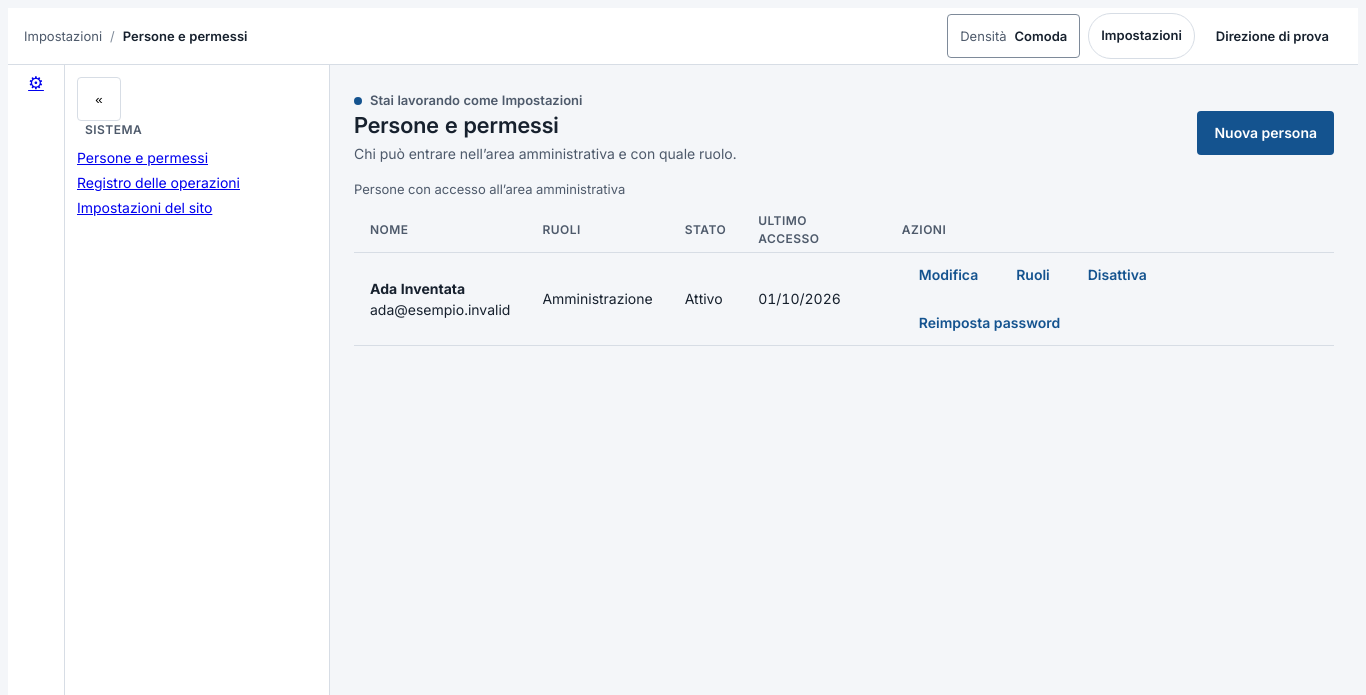
Test case: persone e permessi › crea un account con i ruoli scelti e mostra la password una sola volta
The width and height of the screenshot is (1366, 695).
Expected: the text "Ada Inventata" is shown, [370,280,465,297]
Click the button "Nuova persona" at point(1266, 133), box [1198,111,1334,155]
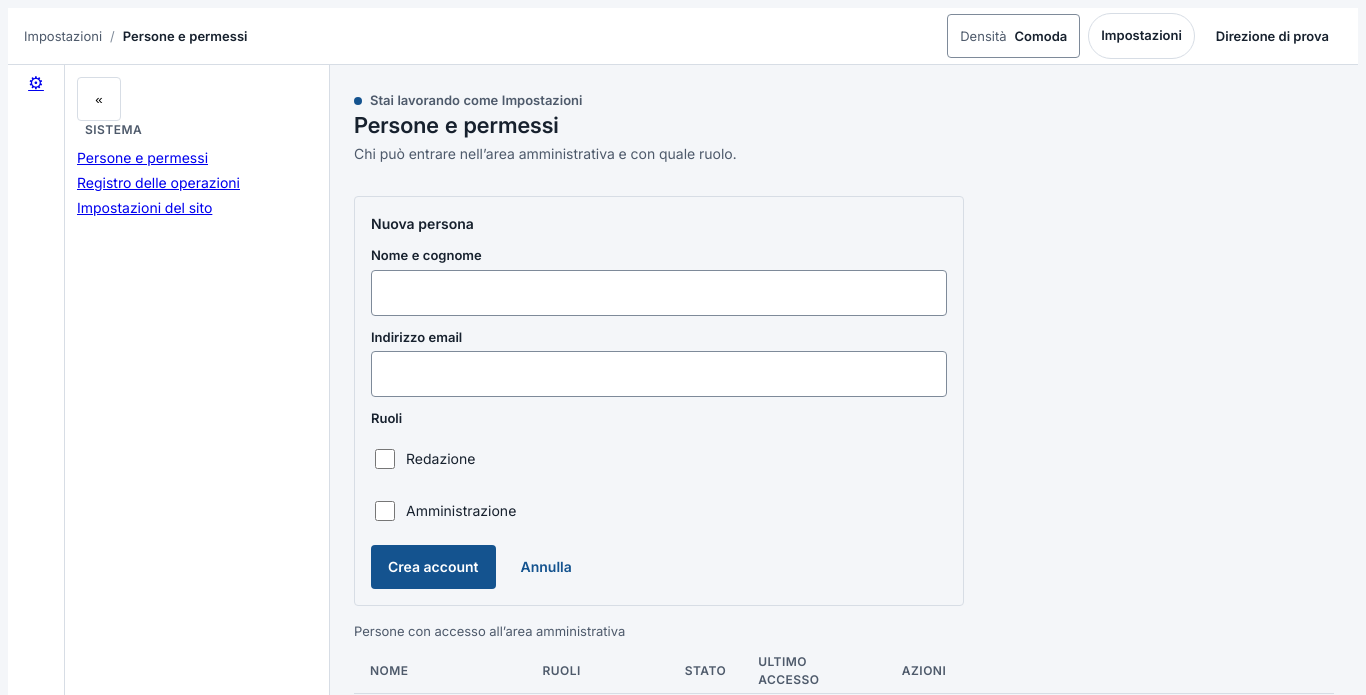
Type "Nuova Persona" into the field labelled "Nome e cognome" at point(659, 293), box [371,270,947,316]
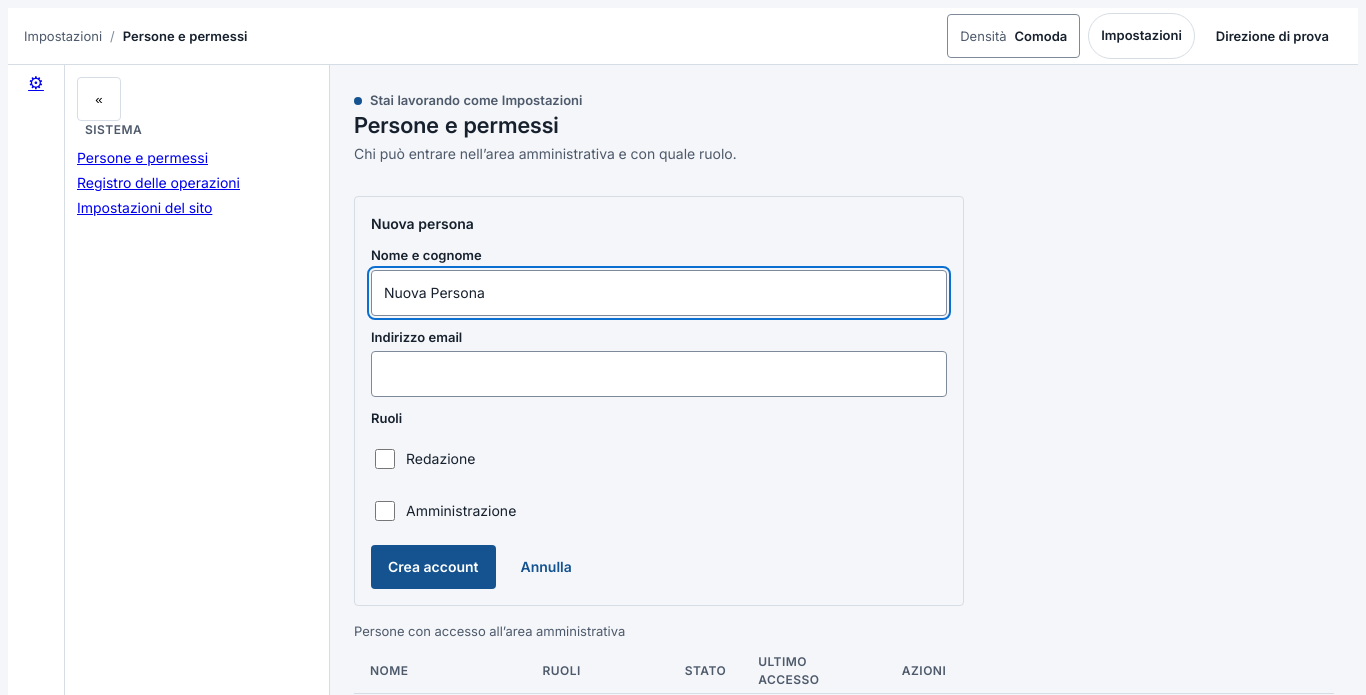
Type "nuova@esempio.invalid" into the field labelled "Indirizzo email" at point(659, 374), box [371,351,947,397]
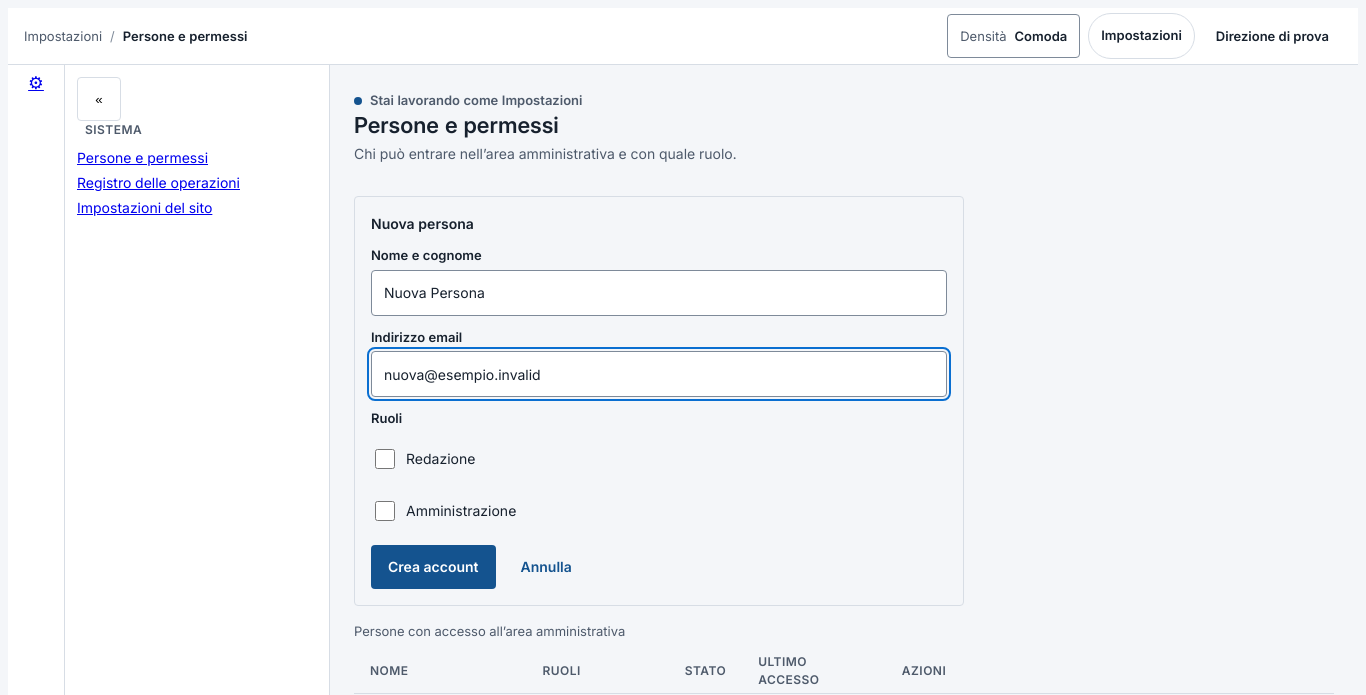
Click the checkbox labelled "Redazione" at point(385, 459), box [375,449,395,469]
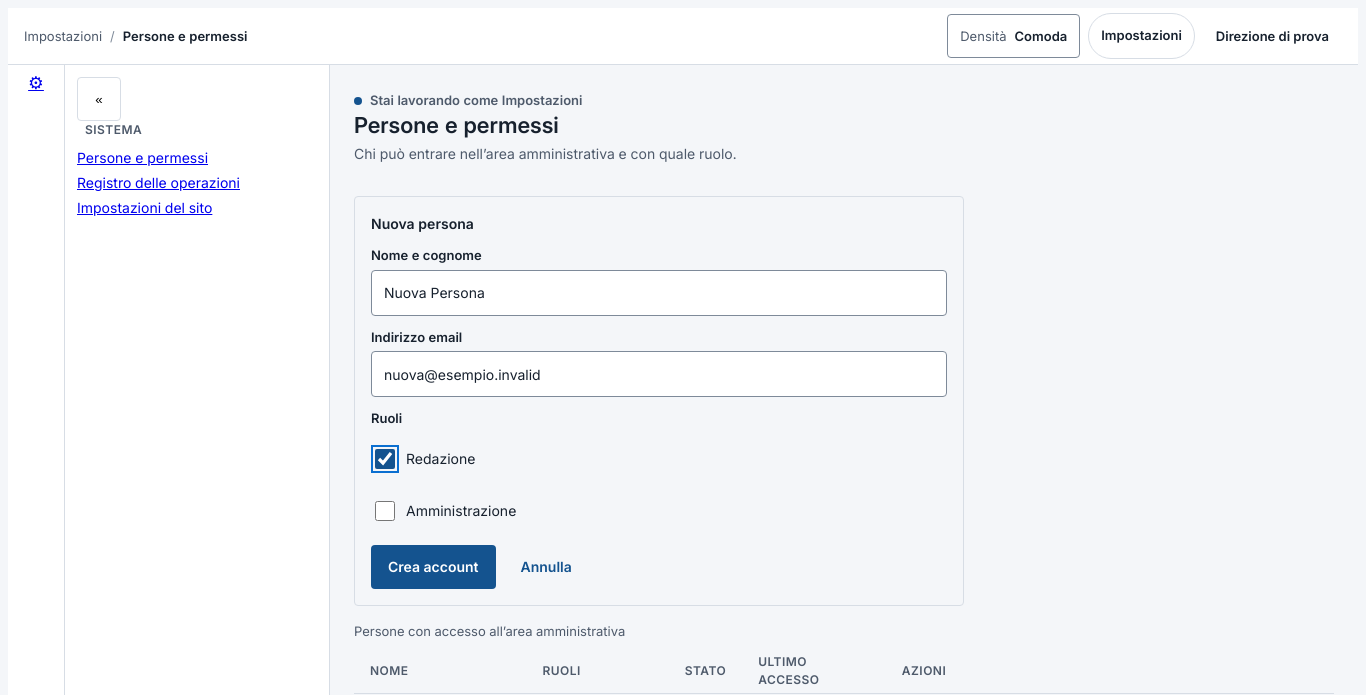
Click the button "Crea account" at point(433, 567), box [371,545,496,589]
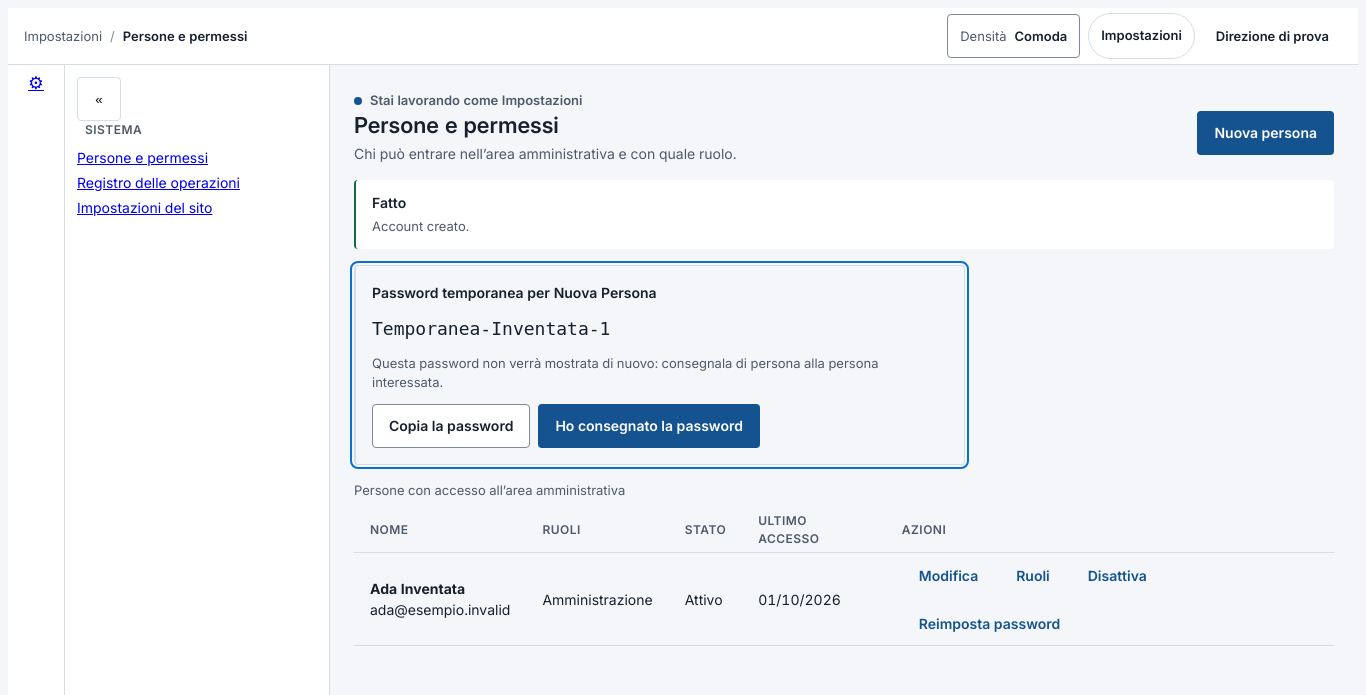
Now the text "Temporanea-Inventata-1" is shown, box [372,318,610,339]
Now the text "Questa password non verrà mostrata di nuovo: consegnala di persona alla persona interessata." is shown, box [372,355,878,390]
Now the button "Copia la password" is shown, box [372,404,530,448]
Click the button "Ho consegnato la password" at point(649, 426), box [538,404,760,448]
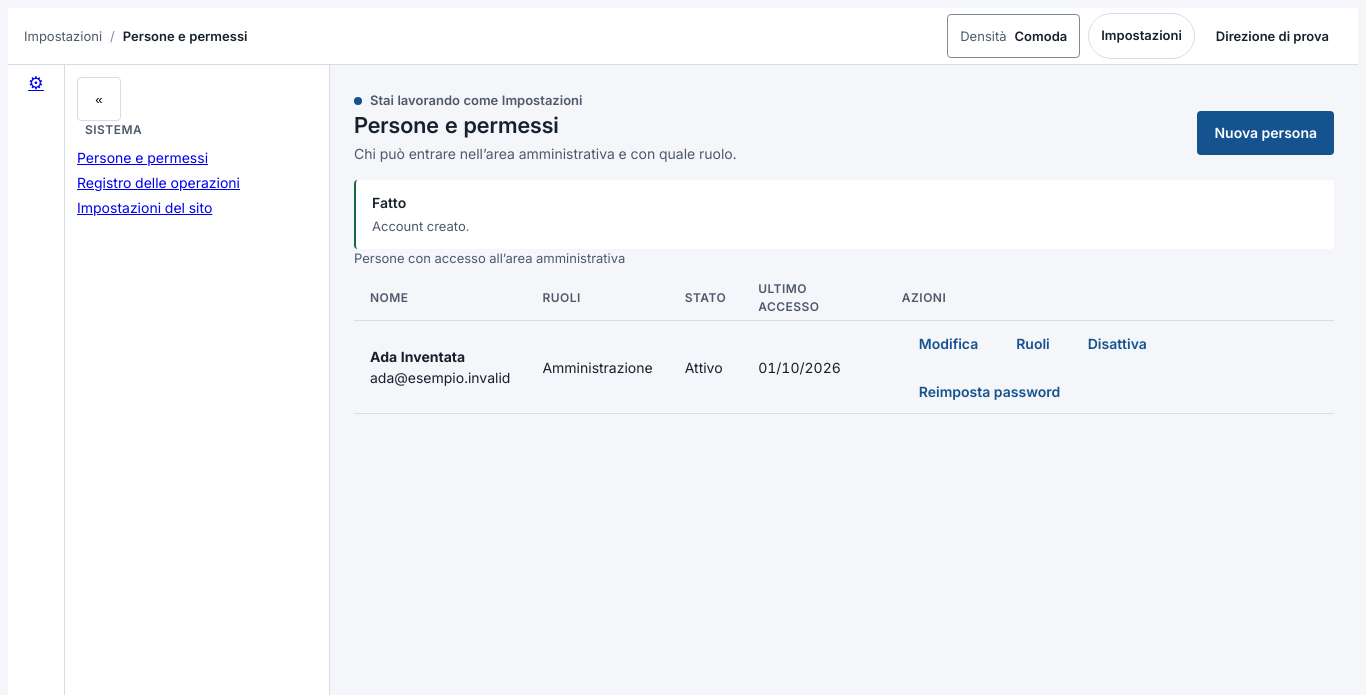
Now the text "Temporanea-Inventata-1" is gone
